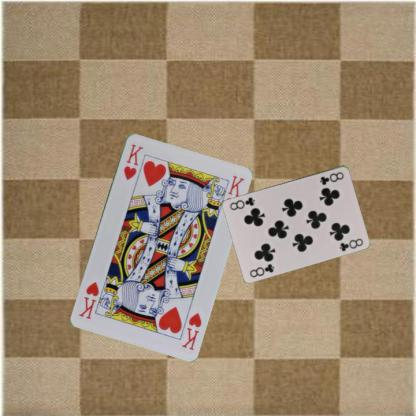8c: (247, 261, 276, 279), (317, 169, 345, 186)
Kh: (178, 310, 203, 351), (121, 141, 144, 181)
